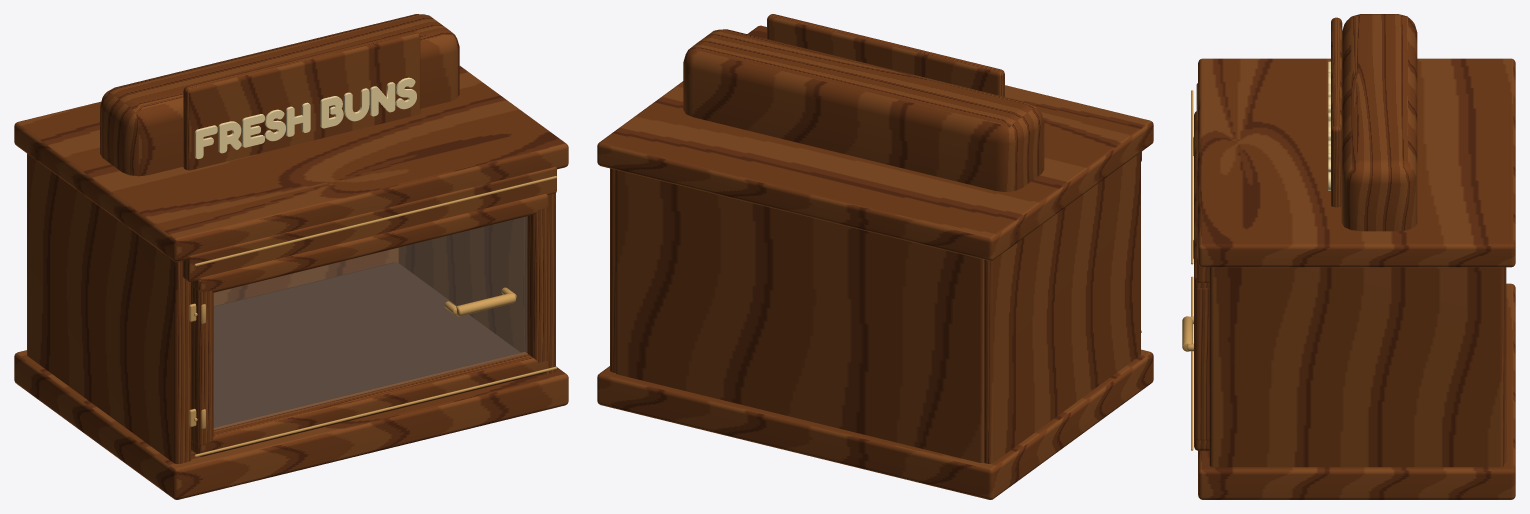
Rendered from bread_box.glb.
3 renders of one model, left to right at view 1: azimuth 30°, elevation 25°; view 2: azimuth 150°, elevation 25°; view 3: azimuth 270°, elevation 25°, orthographic. The views are drawn at different scales.
Parts seen in each view (by area): view 1: Top cap, Glass door glass, Solid wooden side, Removable bread tray, Base plinth, Wood sign plaque, Bakery crown, Solid wooden side.001, Solid upper door lintel, Glass door rail, Glass door rail.001, Inset dark letter floors (+6 smaller); view 2: Rear panel, Top cap, Bakery crown, Solid wooden side, Base plinth, Wood sign plaque, Solid wooden side.001; view 3: Solid wooden side.001, Top cap, Bakery crown, Base plinth, Glass door stile.001, Wood sign plaque, Glass door rail.001, Solid upper door lintel, Rear panel, Brass inlay.001, Brass inlay, Inset dark letter floors.
Part boxes in pixels (box(x1,y1,x2,y2)): Top cap: box(14, 66, 568, 261); Glass door glass: box(214, 217, 526, 429); Solid wooden side: box(27, 153, 191, 463); Removable bread tray: box(191, 262, 520, 451); Base plinth: box(14, 350, 568, 499); Wood sign plaque: box(183, 31, 420, 170); Bakery crown: box(100, 14, 459, 176); Solid wooden side.001: box(398, 193, 555, 375); Solid upper door lintel: box(182, 167, 556, 281); Glass door rail: box(191, 351, 548, 456); Glass door rail.001: box(191, 194, 548, 292); Inset dark letter floors: box(194, 77, 416, 159); Rear panel: box(615, 170, 983, 462); Top cap: box(597, 25, 1153, 260); Bakery crown: box(683, 29, 1044, 191); Solid wooden side: box(984, 152, 1140, 463); Base plinth: box(597, 349, 1153, 499); Wood sign plaque: box(767, 14, 1004, 96); Solid wooden side.001: box(610, 168, 615, 372); Solid wooden side.001: box(1209, 267, 1504, 467); Top cap: box(1198, 58, 1515, 267); Bakery crown: box(1341, 14, 1417, 231); Base plinth: box(1198, 283, 1515, 499); Glass door stile.001: box(1194, 288, 1209, 440); Wood sign plaque: box(1331, 17, 1342, 207); Glass door rail.001: box(1194, 111, 1209, 288); Solid upper door lintel: box(1196, 83, 1209, 282); Rear panel: box(1504, 267, 1506, 463); Brass inlay.001: box(1191, 90, 1193, 264); Brass inlay: box(1191, 276, 1193, 450); Inset dark letter floors: box(1328, 61, 1330, 190).
Size of the model in its own units: 0.59 by 0.5075 by 0.441.
Materials: 6 (2 with a texture image).
